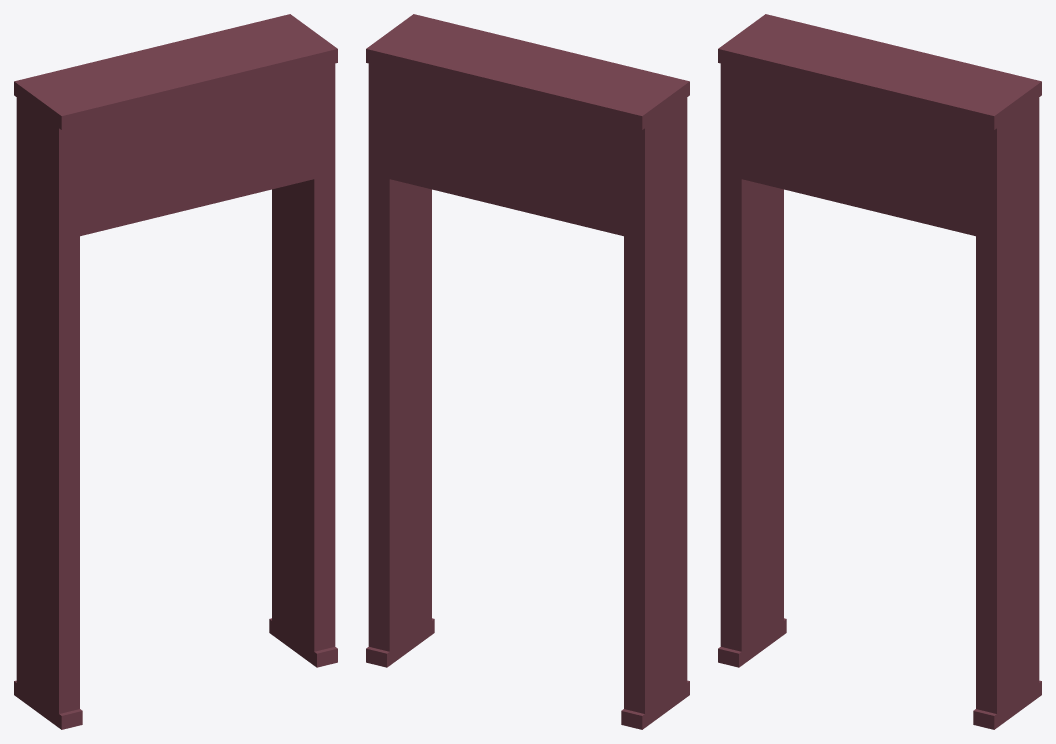
The model's file is MUR_porte.FBX.
3 views of the same model, side by side, from view 1: azimuth 30°, elevation 25°; view 2: azimuth 150°, elevation 25°; view 3: azimuth 330°, elevation 25° (orthographic).
Visible parts, largest first — view 1: MUR_porte; view 2: MUR_porte; view 3: MUR_porte.
Part boxes in pixels (x1,y1,x2,y2): MUR_porte: (14,14,337,729); MUR_porte: (366,14,689,729); MUR_porte: (718,14,1041,729).
Bounding box in the file's own units: 48.21 × 102 × 14.39.
